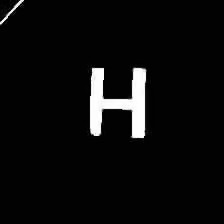LTR_H: (80, 58, 157, 145)
